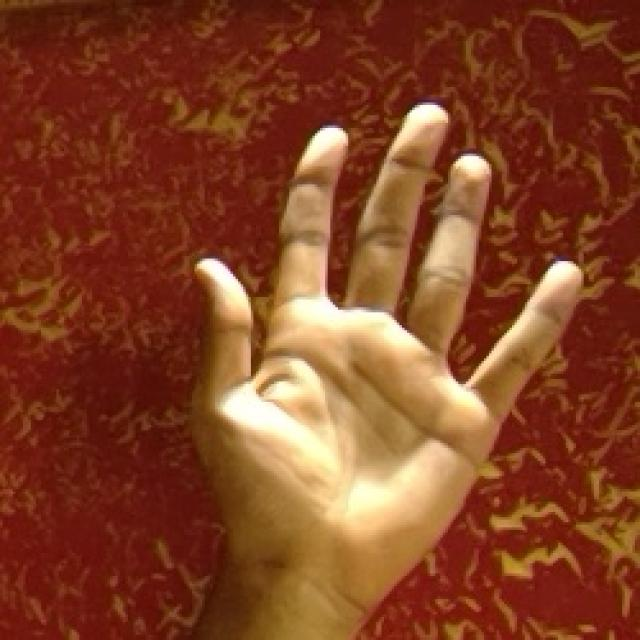Numeric-5: (191, 88, 588, 628)
